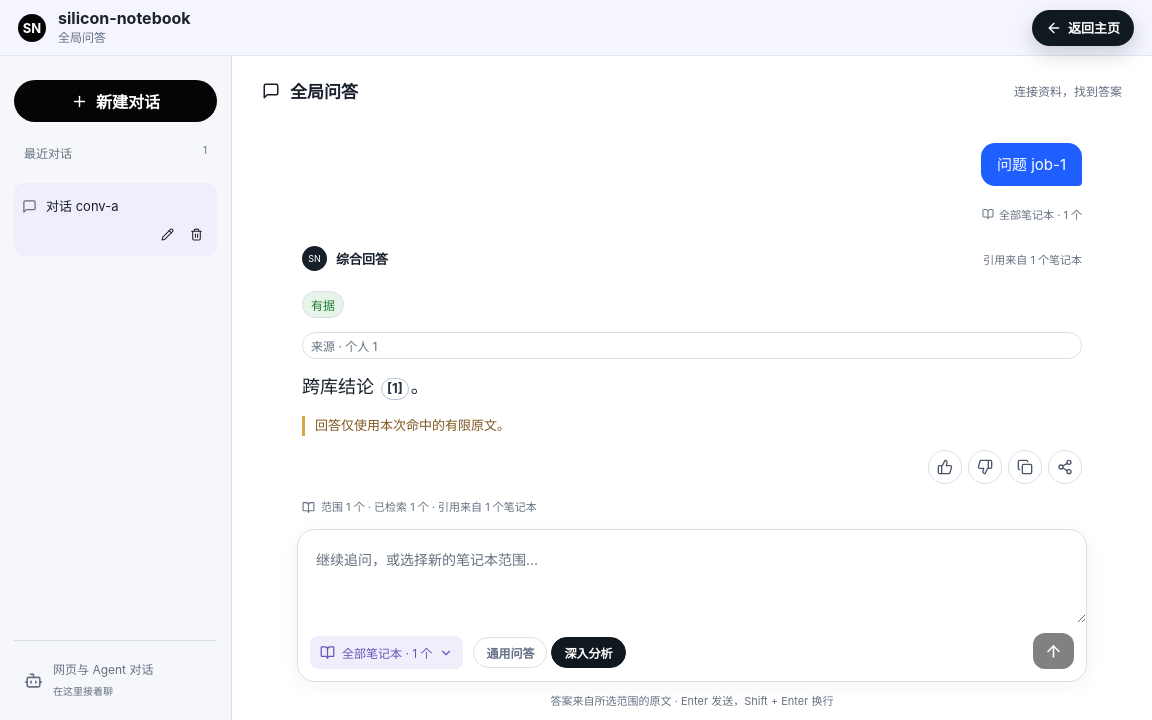
五态之 unshared：还没分享时，说的是「按下去会发布什么」
This screenshot has width=1152, height=720.
Click the button named "分享到这条回答": (1065, 466) [1048, 450, 1082, 484]
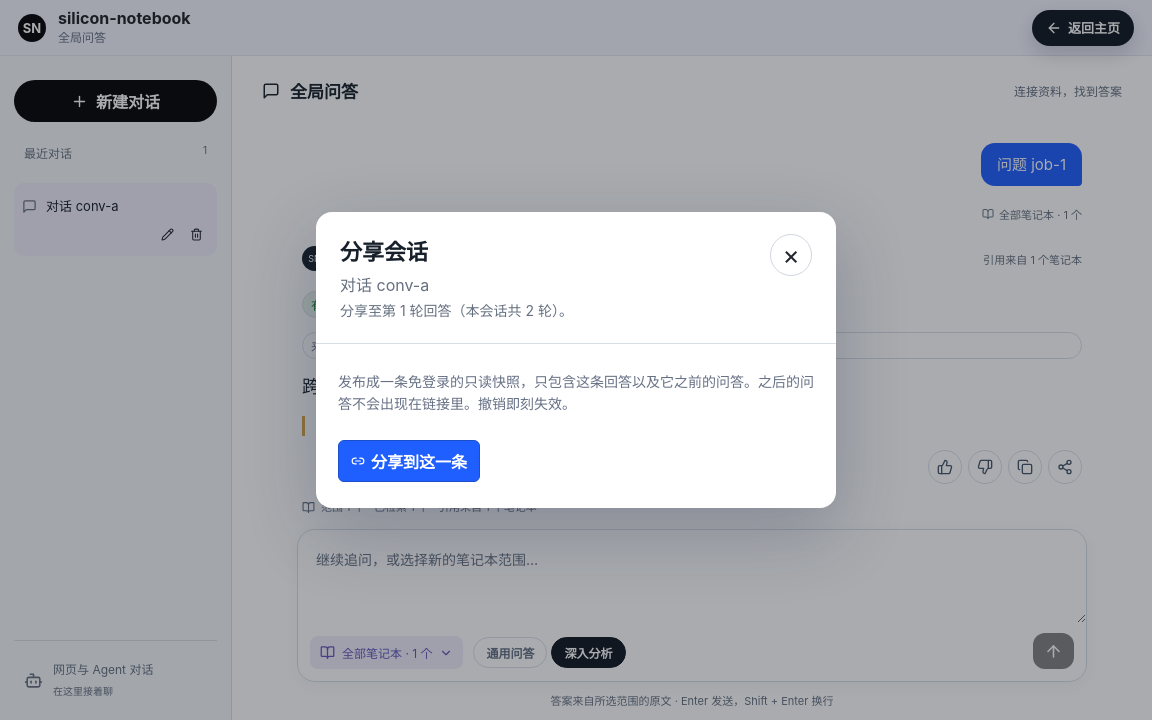
Expected: the heading "分享会话" is shown, [340, 239, 428, 265]
Expected: the text "发布成一条免登录的只读快照，只包含这条回答以及它之前的问答。之后的问答不会出现在链接里。撤销即刻失效。" is shown, [338, 371, 814, 416]
Expected: the button "分享到这一条" is shown, [338, 440, 480, 482]
